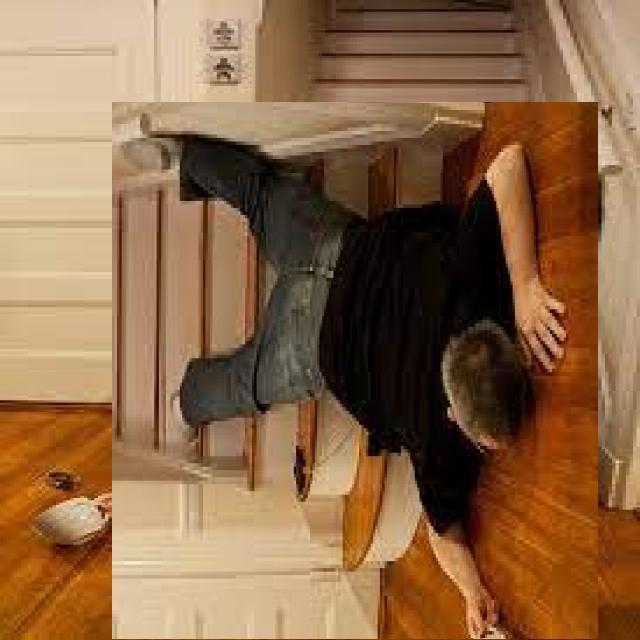Fall: (102, 93, 594, 576)
